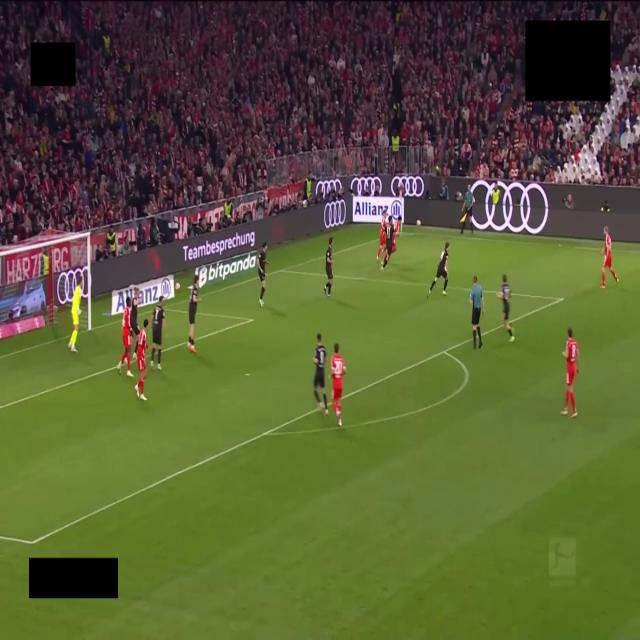ball: (417, 220, 420, 226)
player: (562, 328, 579, 417), (117, 297, 133, 377), (331, 343, 346, 427), (68, 276, 83, 352), (428, 242, 449, 296), (314, 334, 328, 414), (498, 275, 514, 341), (135, 320, 148, 400), (601, 227, 618, 288), (151, 296, 165, 370), (188, 275, 200, 353), (381, 216, 394, 271), (258, 242, 267, 306), (131, 288, 139, 358), (324, 237, 333, 298), (377, 208, 387, 262), (392, 219, 400, 252)
referee: (470, 276, 484, 349)
